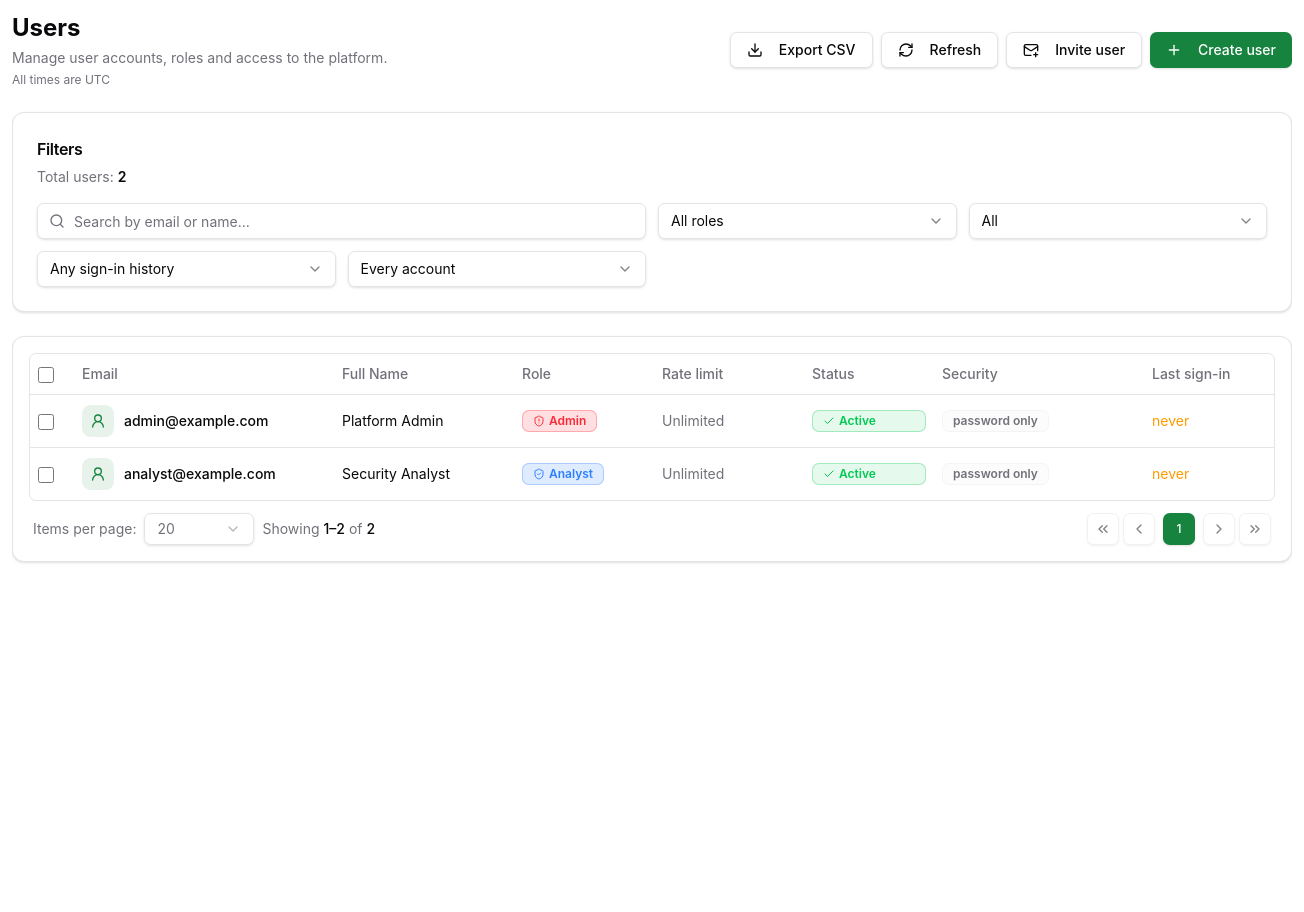
Test: UsersPage › drops a selection once the list no longer shows those rows
The image size is (1304, 912).
Expected: the text "analyst@example.com" is shown, [124, 464, 276, 484]
Step 1. Click the checkbox named "Select analyst@example.com" → (46, 475), box [38, 467, 54, 483]
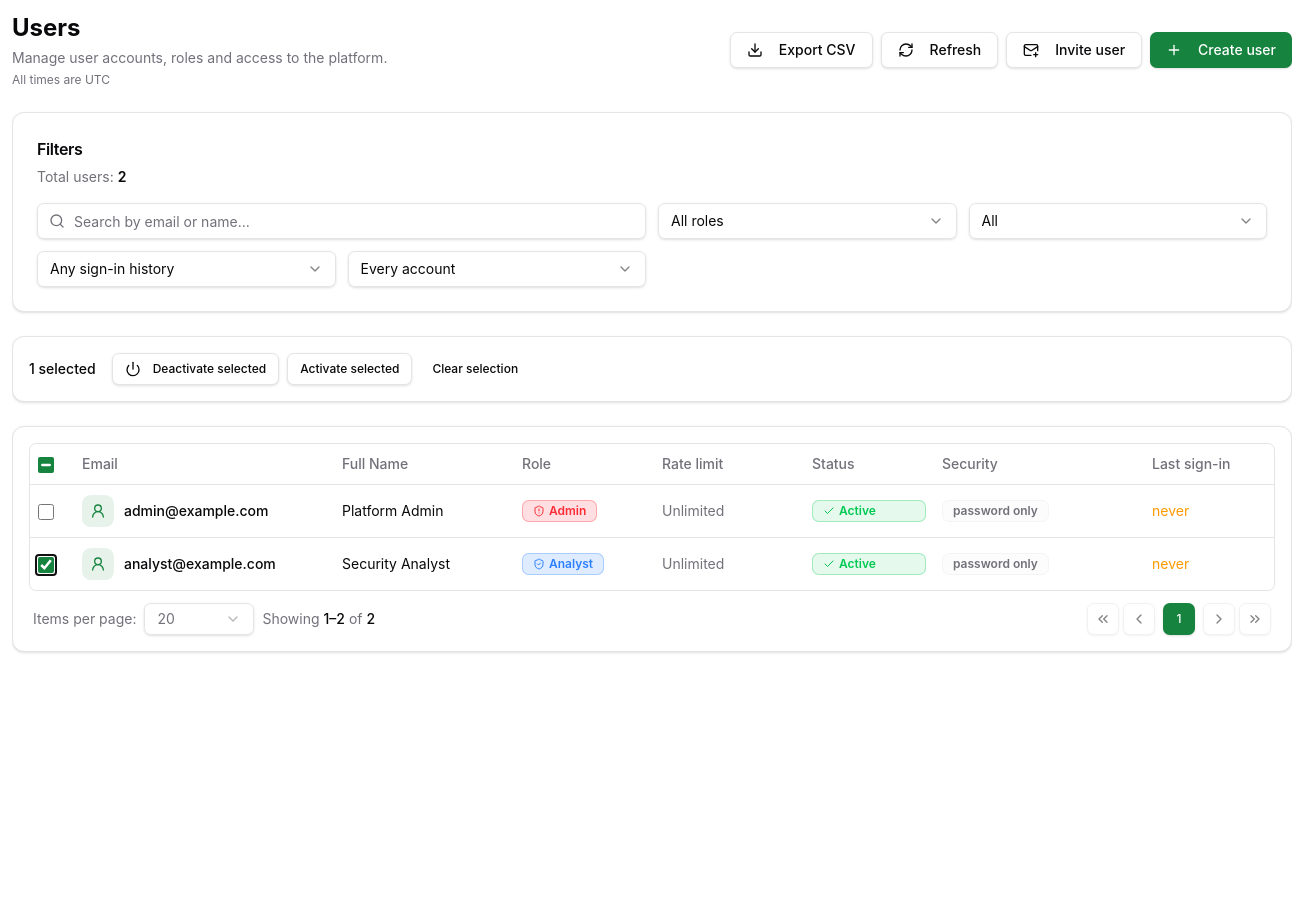
Result: the text "1 selected" is shown at [29, 359, 96, 379]
Step 2. Type "oncall" into the field with placeholder "Search by email or name..." → (342, 221), box [37, 203, 646, 239]
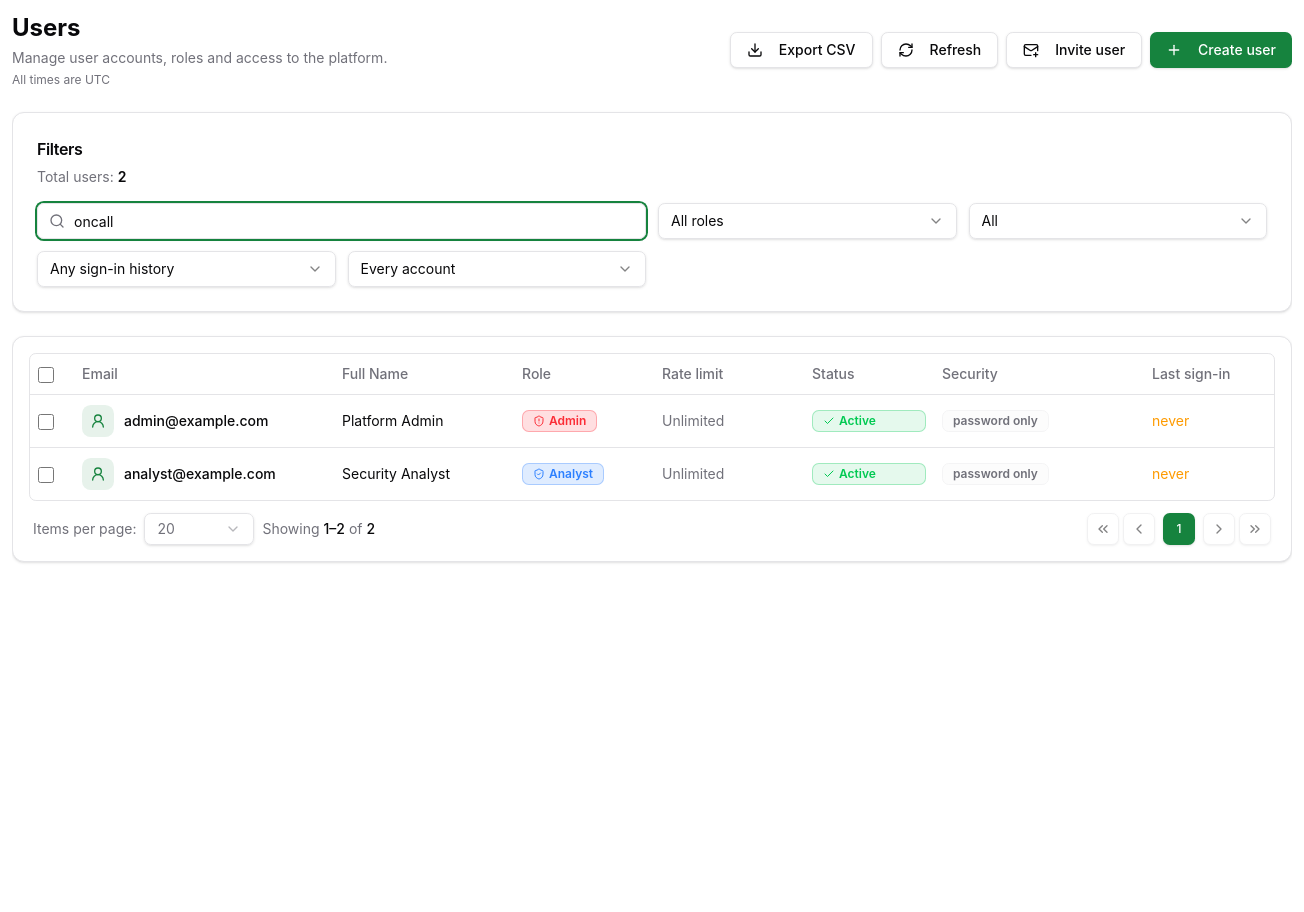
Result: the text "1 selected" is gone
